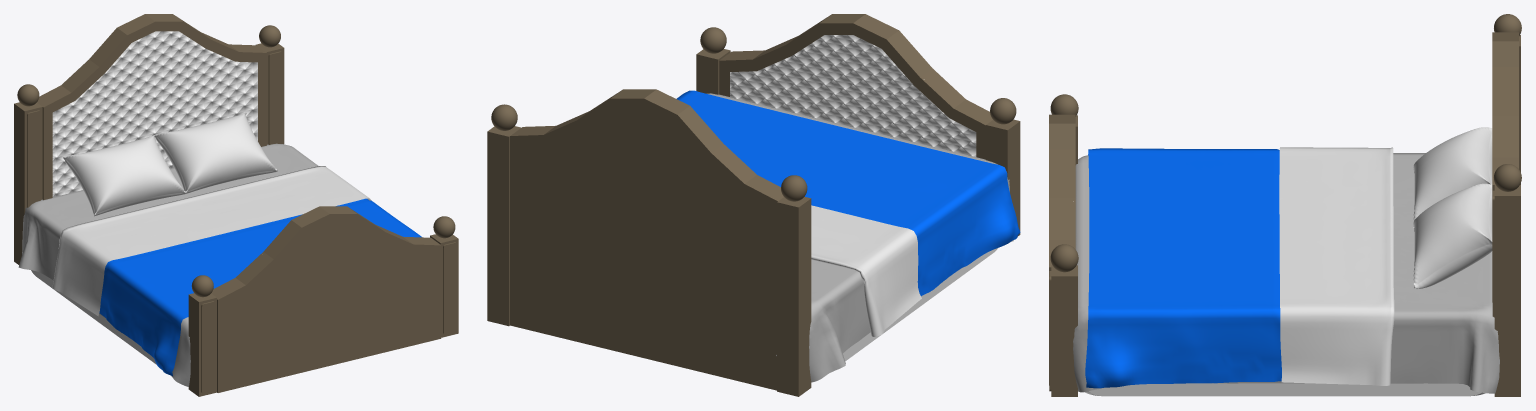
The model's file is BedDesignA.glb.
The picture shows the model from 3 angles, left to right: view 1: azimuth 30°, elevation 25°; view 2: azimuth 150°, elevation 25°; view 3: azimuth 270°, elevation 25°; orthographic projection. The views are drawn at different scales.
Parts seen in each view (by area): view 1: BedFrame, Duvet, Cube, BedPosts, Sheet, Pillow.002, Pillow, Mattress; view 2: BedFrame, Duvet, BedPosts, Cube.003, Sheet, Mattress; view 3: Duvet, Sheet, BedPosts, BedFrame, Pillow.002, Mattress, Pillow.
Part boxes in pixels (x1,y1,x2,y2): BedFrame: (37, 14, 441, 392); Duvet: (52, 166, 421, 375); Cube: (52, 31, 257, 197); BedPosts: (14, 25, 458, 396); Sheet: (18, 143, 318, 386); Pillow.002: (155, 112, 277, 194); Pillow: (63, 135, 186, 216); Mattress: (31, 270, 156, 364); BedFrame: (510, 14, 992, 390); Duvet: (676, 90, 1020, 336); BedPosts: (487, 27, 1020, 396); Cube.003: (730, 35, 976, 156); Sheet: (707, 93, 1013, 382); Mattress: (817, 248, 997, 380); Duvet: (1085, 147, 1394, 388); Sheet: (1073, 153, 1499, 393); BedPosts: (1049, 14, 1521, 396); BedFrame: (1049, 32, 1518, 385); Pillow.002: (1413, 183, 1492, 289); Mattress: (1084, 383, 1485, 396); Pillow: (1413, 127, 1492, 231).
Size of the model in its own units: 2.44 by 1.73 by 2.67.
